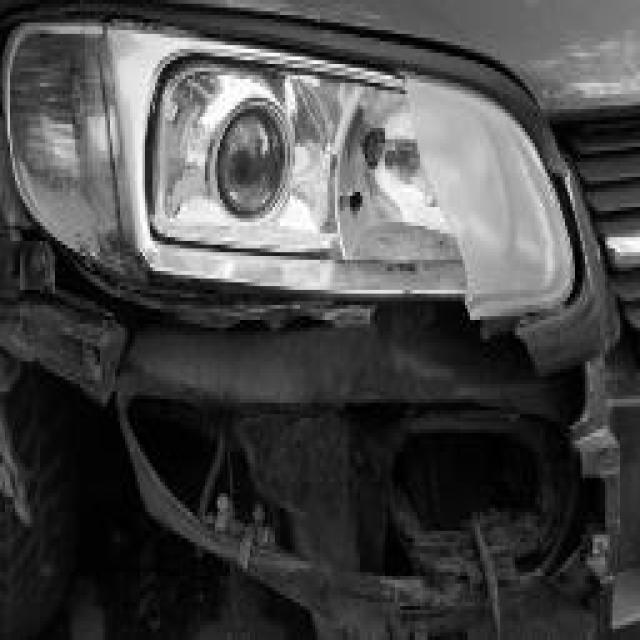Bumper: (8, 267, 640, 640)
Light: (8, 19, 562, 320)
